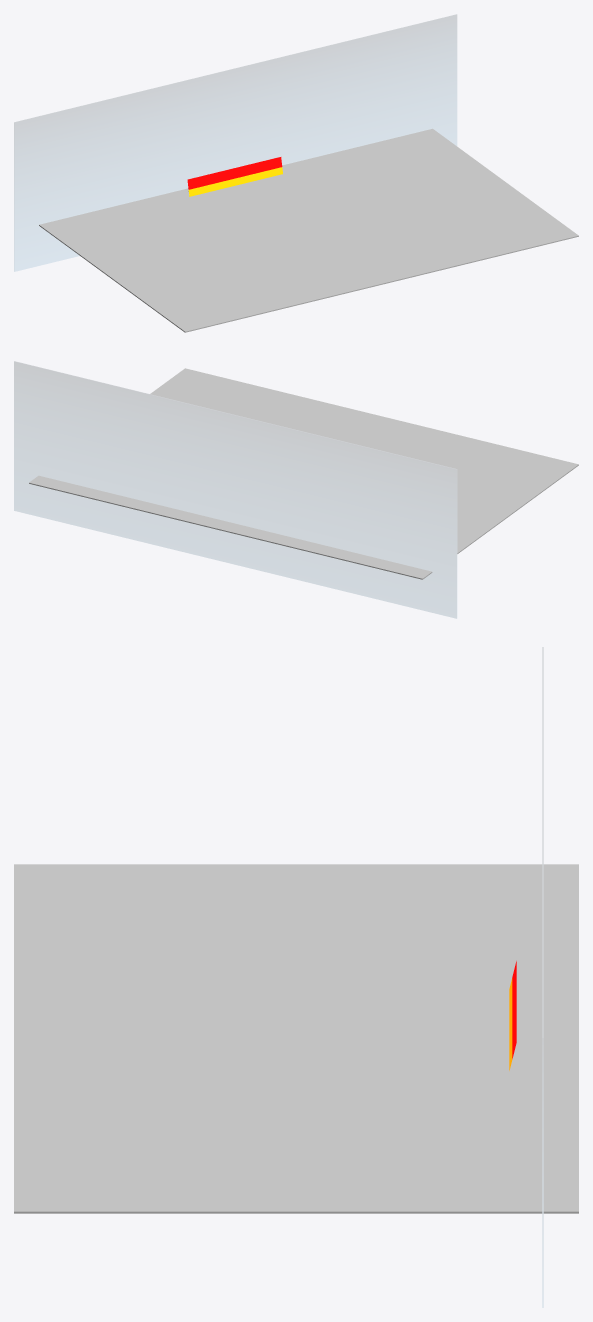
Rendered from f_progress.glb.
3 views of the same model, one above another, from view 1: azimuth 30°, elevation 25°; view 2: azimuth 150°, elevation 25°; view 3: azimuth 270°, elevation 25° (orthographic). The views are drawn at different scales.
Visible parts, largest first — view 1: Ground contact / transparent shadow receiver.029, Sky gradient / editable material.029, Flag cloth / full-bleed source fields.001; view 2: Sky gradient / editable material.029, Ground contact / transparent shadow receiver.029; view 3: Ground contact / transparent shadow receiver.029, Sky gradient / editable material.029.
Boxes of the visible parts, <box> form: Ground contact / transparent shadow receiver.029: <box>39,128,578,332</box>; Sky gradient / editable material.029: <box>14,14,457,271</box>; Flag cloth / full-bleed source fields.001: <box>187,157,282,196</box>; Sky gradient / editable material.029: <box>14,361,457,618</box>; Ground contact / transparent shadow receiver.029: <box>29,368,578,579</box>; Ground contact / transparent shadow receiver.029: <box>14,864,578,1213</box>; Sky gradient / editable material.029: <box>542,647,543,1307</box>.
Bounding box in the file's own units: 180 × 58 × 110.
